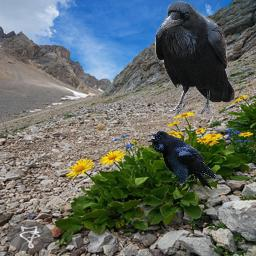Crow: (154, 0, 236, 117), (146, 130, 216, 191)
